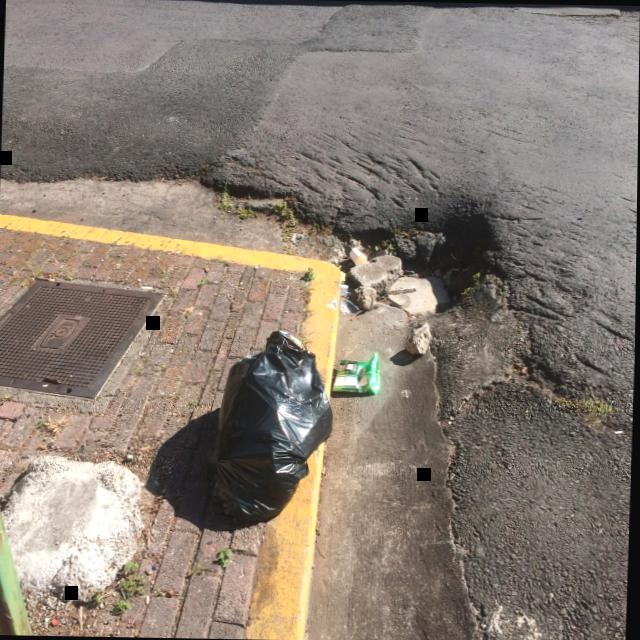Cigarette: (615, 430, 624, 433)
Crisp packet: (333, 352, 381, 394)
Garbage bag: (205, 330, 334, 522)
Other plastic bottle: (341, 298, 360, 314)
Paper cup: (350, 247, 368, 266)
